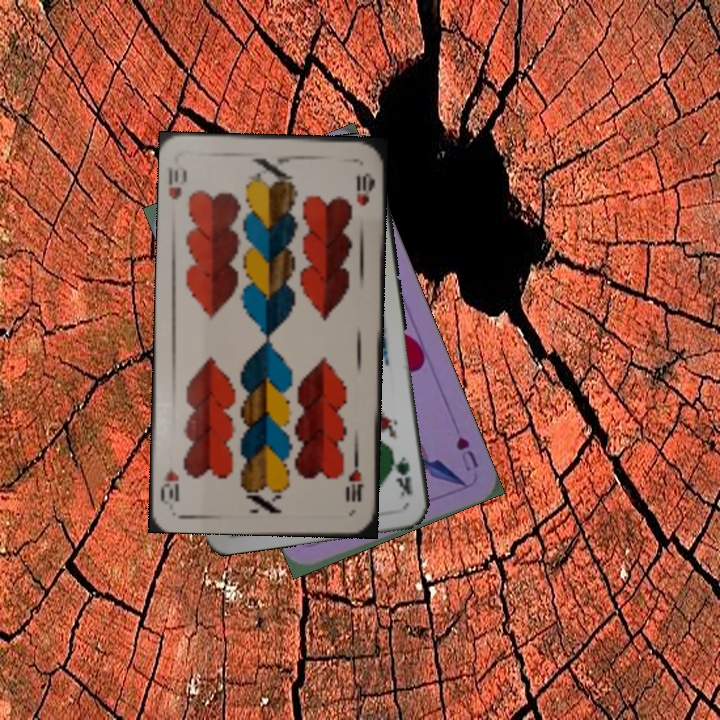GK: (388, 446, 415, 498)
H10: (342, 452, 366, 505), (165, 163, 189, 202)
HU: (452, 433, 482, 474)
